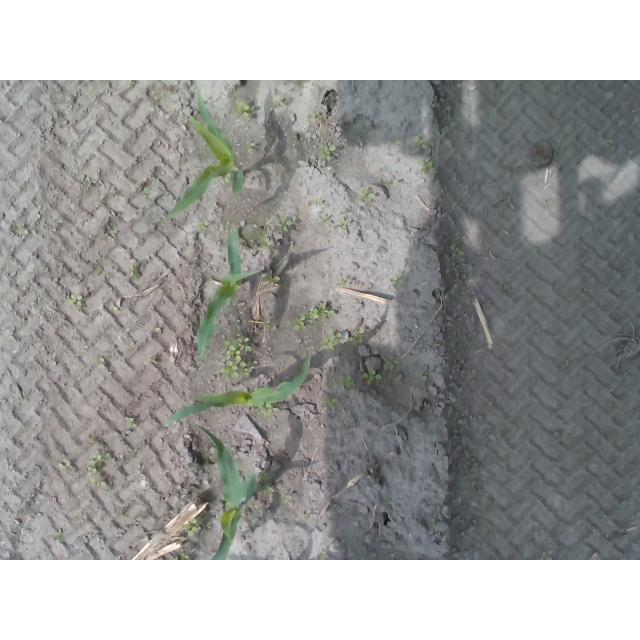Maize: (164, 84, 246, 223), (165, 357, 312, 427), (189, 422, 259, 550), (197, 231, 256, 365)
Weeds: (222, 336, 259, 380), (86, 454, 111, 490), (257, 466, 276, 498), (308, 300, 336, 321), (319, 214, 349, 231), (320, 330, 343, 350), (236, 98, 253, 119), (361, 369, 381, 384), (319, 144, 337, 160), (273, 217, 291, 232), (350, 328, 366, 344), (293, 312, 307, 330), (182, 521, 203, 533), (417, 158, 433, 173), (337, 376, 354, 390), (265, 273, 282, 287), (319, 397, 339, 408), (385, 355, 399, 370), (130, 267, 143, 282), (360, 188, 375, 201), (244, 141, 257, 155), (416, 136, 429, 149), (451, 247, 465, 259), (70, 294, 83, 306), (260, 402, 273, 414), (16, 224, 28, 236), (125, 416, 137, 428), (305, 511, 316, 522), (339, 278, 350, 289), (197, 221, 208, 231), (313, 111, 323, 121), (319, 552, 329, 561), (98, 357, 107, 367), (127, 80, 136, 88), (180, 553, 189, 560)
